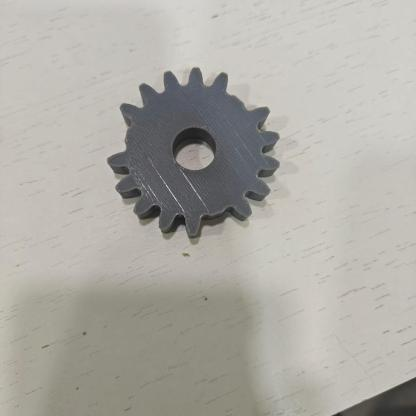defect: (187, 183, 251, 241), (99, 103, 150, 175), (207, 72, 265, 128)
gear: (79, 52, 312, 271)
